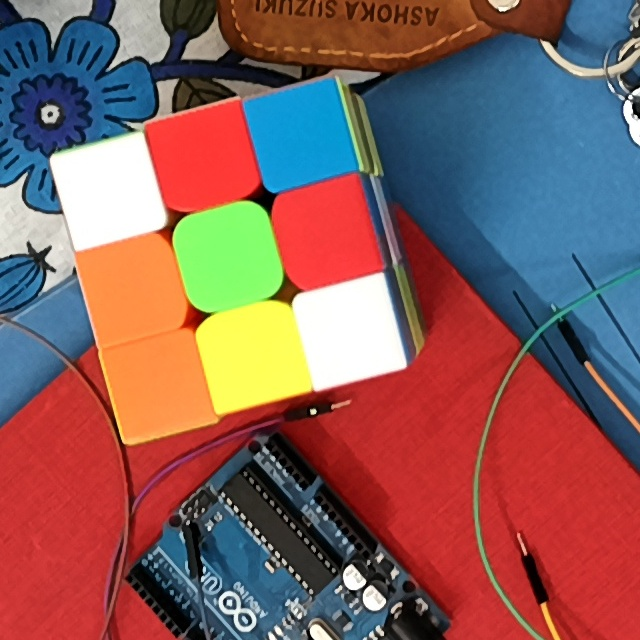tile: (163, 124, 241, 197), (212, 318, 290, 391), (313, 294, 387, 370), (189, 222, 266, 295), (290, 195, 362, 270), (96, 251, 169, 324), (120, 350, 194, 421), (264, 99, 336, 171), (77, 157, 144, 228)
